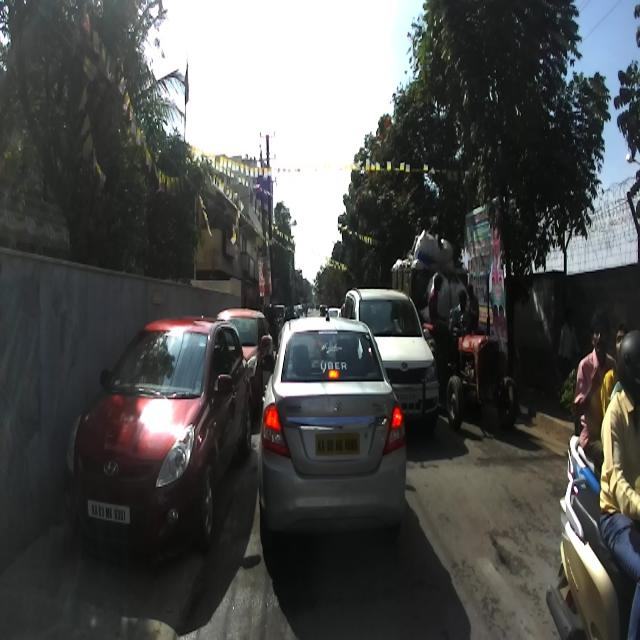Car_Hyundai: (64, 317, 252, 554)
Car_Mahindra: (340, 286, 438, 435)
Car_Maruti-Suzuki: (258, 310, 406, 558)
scooter: (546, 473, 632, 639), (565, 429, 599, 504)
